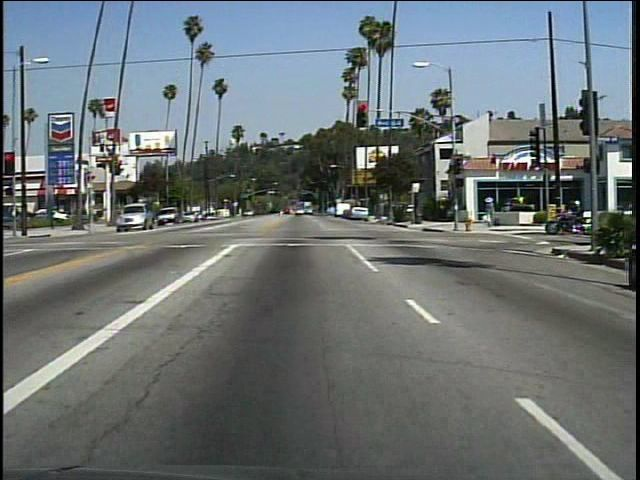person: (562, 194, 588, 237), (481, 192, 498, 228)
